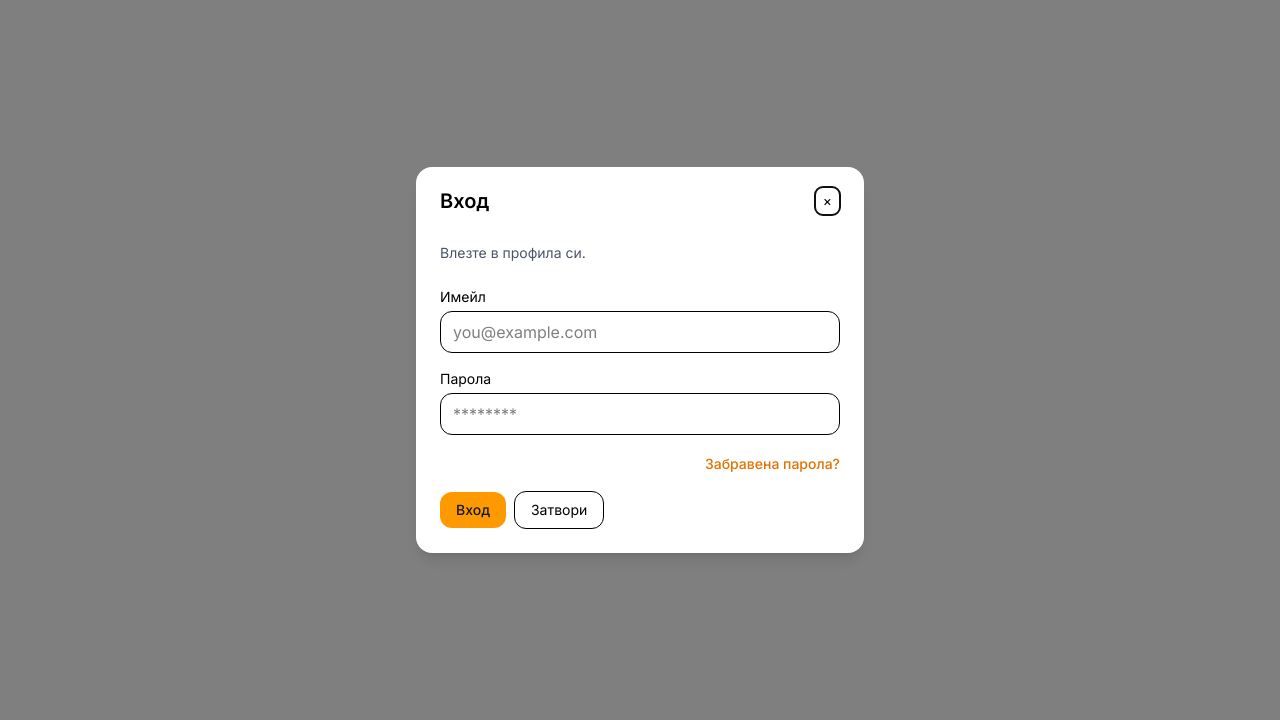
Test: Login Flow › should show error on failed login
The width and height of the screenshot is (1280, 720).
Type "test@example.com" into the field labelled "Имейл" at (640, 332), box [440,311,840,353]
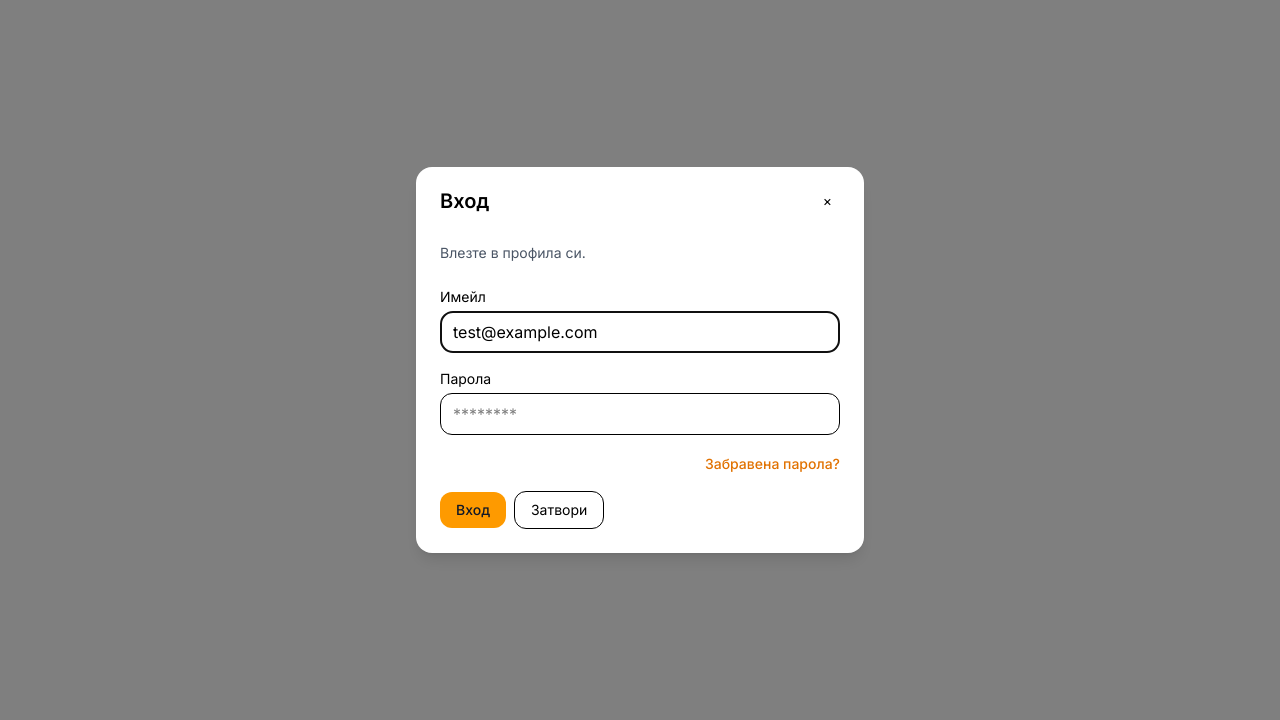
Type "wrongpassword" into the password field labelled "Парола" at (640, 414), box [440,393,840,435]
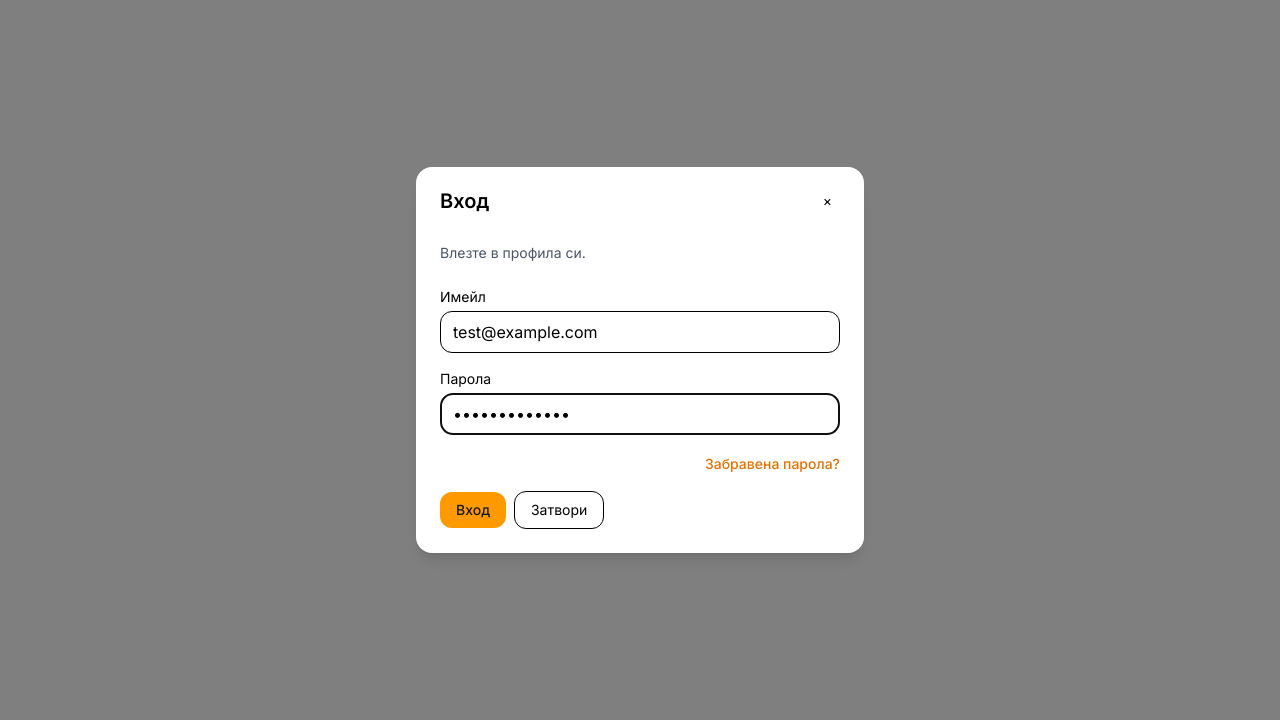
Click the button "Вход" at (473, 510), box [440,492,506,528]
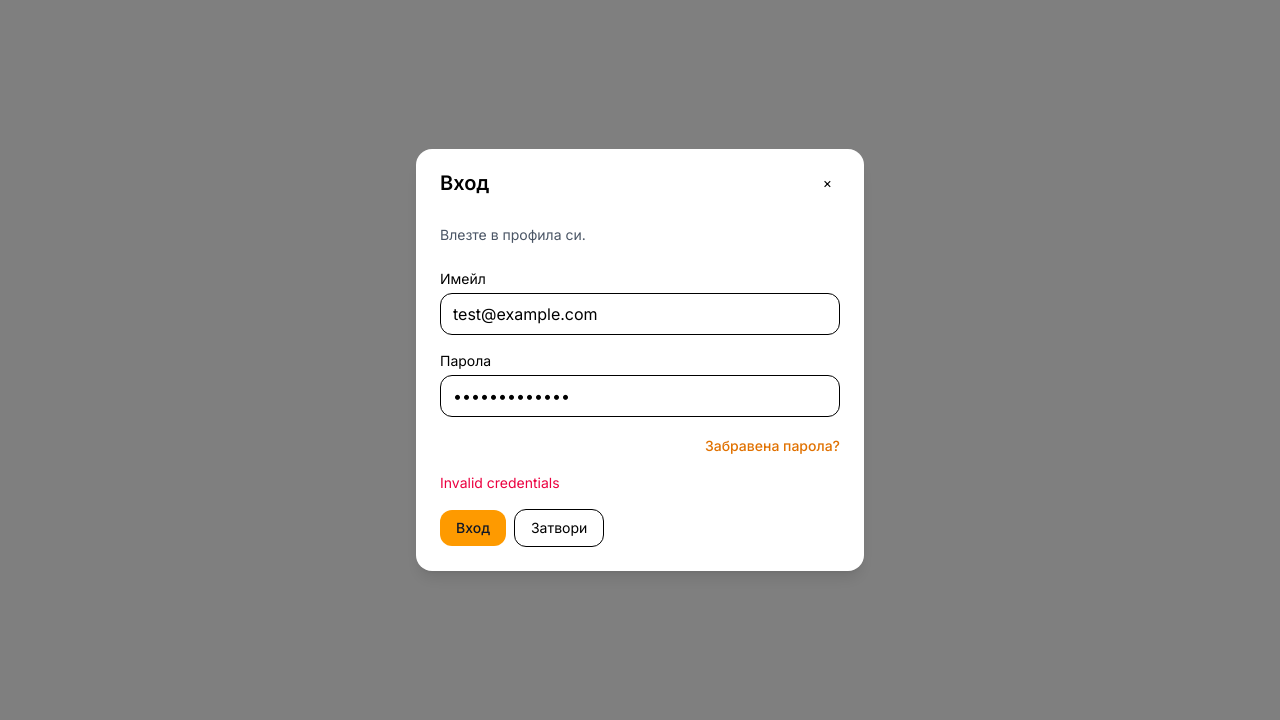
Expected: the text "Invalid credentials" is shown, [440,474,560,491]
